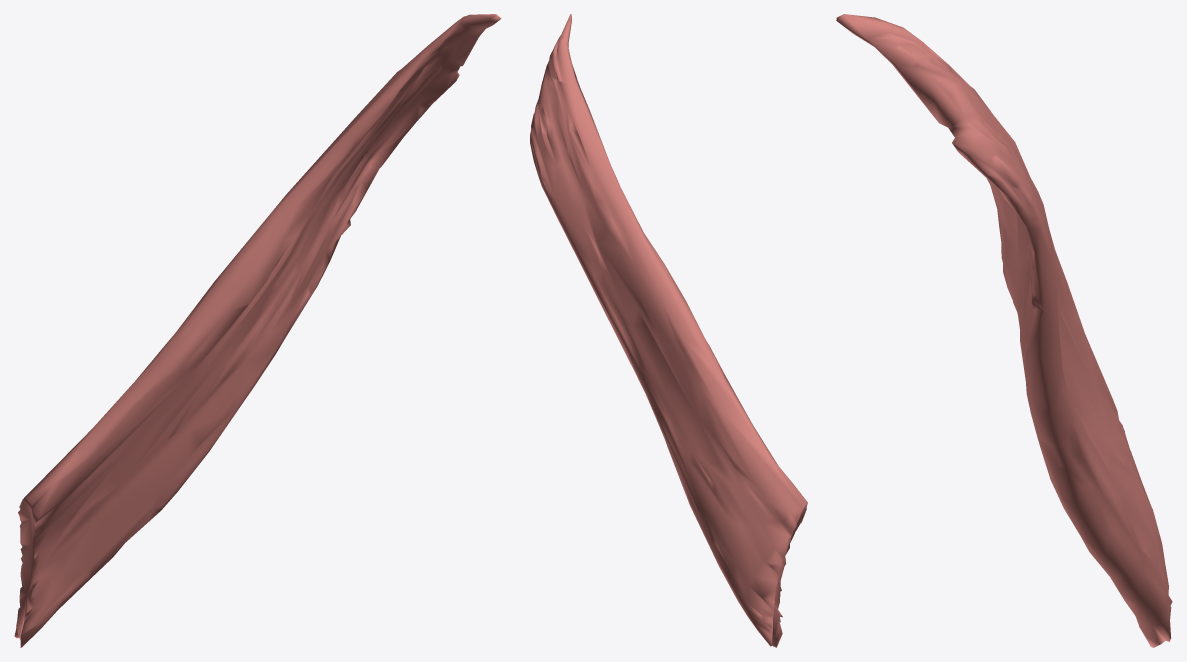
3 views of the same model, side by side, from view 1: azimuth 30°, elevation 25°; view 2: azimuth 150°, elevation 25°; view 3: azimuth 270°, elevation 25° (orthographic). The views are drawn at different scales.
Parts seen in each view (by area): view 1: ZA_2dc23802e8ed070a; view 2: ZA_2dc23802e8ed070a; view 3: ZA_2dc23802e8ed070a.
Boxes of the visible parts, box(x1,y1,x2,y2) form: ZA_2dc23802e8ed070a: box(14, 14, 501, 647); ZA_2dc23802e8ed070a: box(530, 14, 807, 647); ZA_2dc23802e8ed070a: box(836, 14, 1172, 647).
Size of the model in its own units: 0.0654 by 0.1011 by 0.0347.
